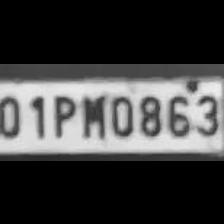0: (105, 89, 135, 137), (0, 91, 23, 139)
1: (23, 91, 49, 139)
3: (192, 89, 219, 137)
6: (164, 89, 190, 137)
8: (136, 90, 162, 138)
M: (76, 90, 108, 138)
P: (47, 91, 77, 139)
